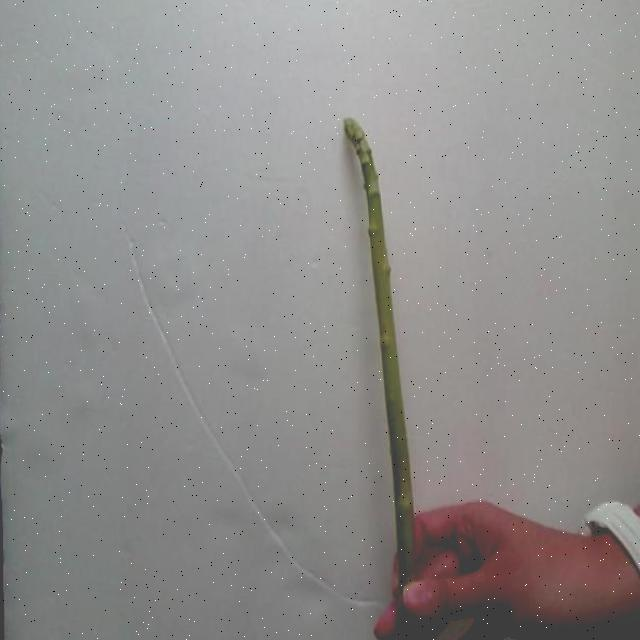aspargus: (345, 119, 416, 589)
